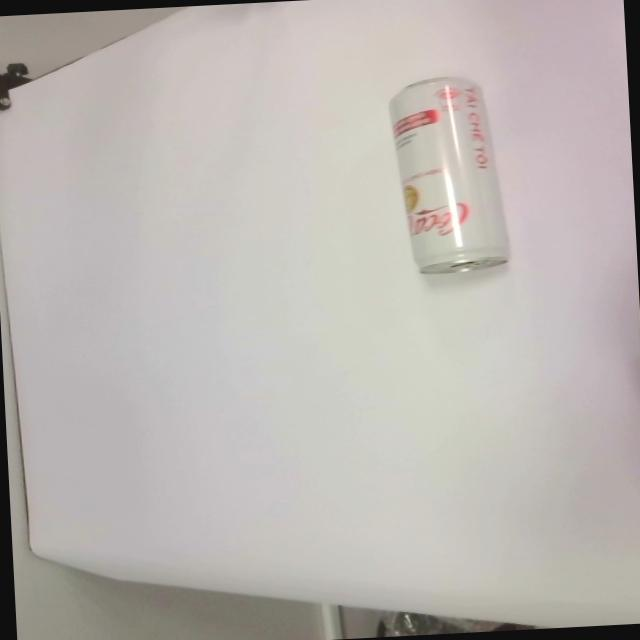debris: (384, 73, 512, 279)
